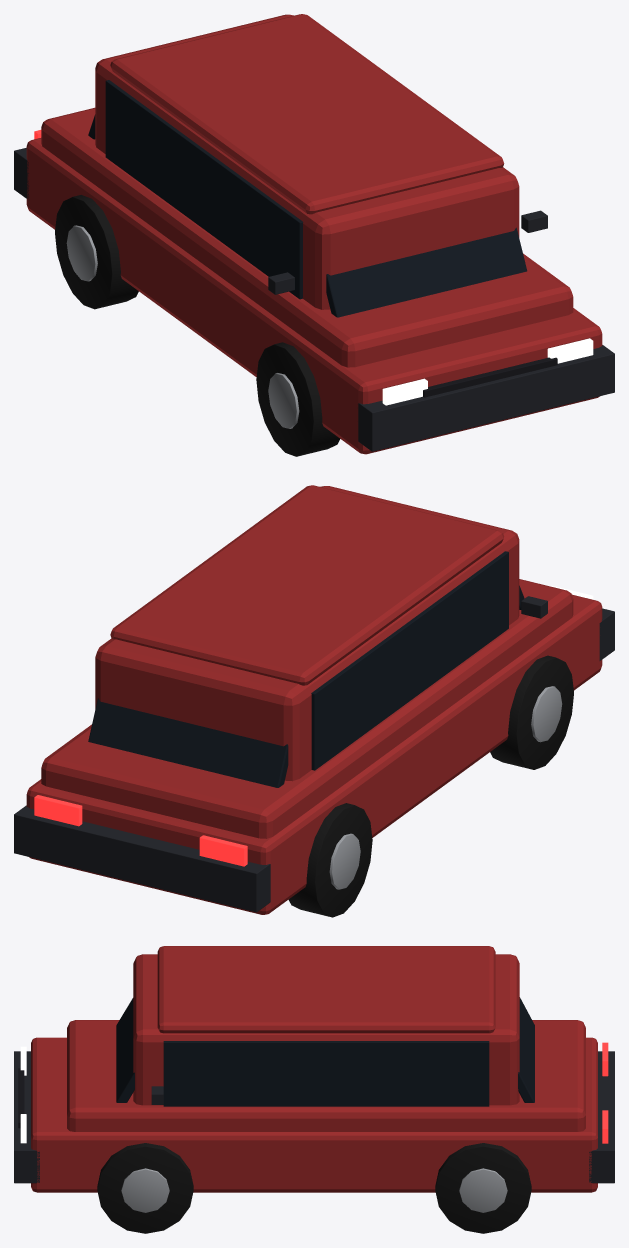
File: car_van.glb
3 renders of one model, top to bottom at view 1: azimuth 30°, elevation 25°; view 2: azimuth 150°, elevation 25°; view 3: azimuth 270°, elevation 25°, orthographic. The views are drawn at different scales.
Visible parts, largest first — view 1: Cube.003, Cube, Cube.001, Cube.002, Cube.007, Cube.010, Cube.004, Cone, Cone.002, Cube.012, Cone.003, Cone.001 (+3 smaller); view 2: Cube.003, Cube, Cube.001, Cube.002, Cube.007, Cube.011, Cube.005, Cone, Cone.002, Cone.001, Cone.003, Cube.016 (+2 smaller); view 3: Cube, Cube.003, Cube.001, Cube.006, Cube.002, Cone.004, Cone.006, Cube.011, Cube.010, Cone.005, Cone.007, Cube.004 (+1 smaller).
Part boxes in pixels (x1=…): Cube.003: x1=110, y1=14, x2=504, y2=214; Cube: x1=26, y1=138, x2=602, y2=454; Cube.001: x1=41, y1=107, x2=573, y2=367; Cube.002: x1=95, y1=14, x2=519, y2=309; Cube.007: x1=105, y1=80, x2=303, y2=299; Cube.010: x1=358, y1=345, x2=614, y2=451; Cube.004: x1=326, y1=227, x2=527, y2=317; Cone: x1=55, y1=195, x2=138, y2=309; Cone.002: x1=256, y1=342, x2=339, y2=456; Cube.012: x1=423, y1=357, x2=557, y2=397; Cone.003: x1=268, y1=373, x2=299, y2=428; Cone.001: x1=66, y1=225, x2=97, y2=281; Cube.003: x1=110, y1=485, x2=504, y2=685; Cube: x1=26, y1=594, x2=602, y2=914; Cube.001: x1=41, y1=579, x2=573, y2=838; Cube.002: x1=95, y1=486, x2=519, y2=781; Cube.007: x1=311, y1=551, x2=508, y2=770; Cube.011: x1=14, y1=805, x2=270, y2=912; Cube.005: x1=88, y1=698, x2=288, y2=787; Cone: x1=288, y1=803, x2=372, y2=917; Cone.002: x1=490, y1=655, x2=573, y2=769; Cone.001: x1=329, y1=833, x2=360, y2=889; Cone.003: x1=531, y1=686, x2=562, y2=742; Cube.016: x1=199, y1=835, x2=247, y2=866; Cube: x1=31, y1=1037, x2=597, y2=1192; Cube.003: x1=157, y1=946, x2=495, y2=1033; Cube.001: x1=67, y1=1020, x2=585, y2=1131; Cube.006: x1=163, y1=1041, x2=489, y2=1106; Cube.002: x1=133, y1=954, x2=519, y2=1105; Cone.004: x1=435, y1=1143, x2=531, y2=1233; Cone.006: x1=97, y1=1143, x2=193, y2=1233; Cube.011: x1=589, y1=1051, x2=614, y2=1183; Cube.010: x1=14, y1=1051, x2=39, y2=1183; Cone.005: x1=459, y1=1168, x2=507, y2=1212; Cone.007: x1=121, y1=1168, x2=169, y2=1212; Cube.004: x1=116, y1=998, x2=134, y2=1102.
Bounding box in the file's own units: 2.19 × 1.79 × 4.98.
